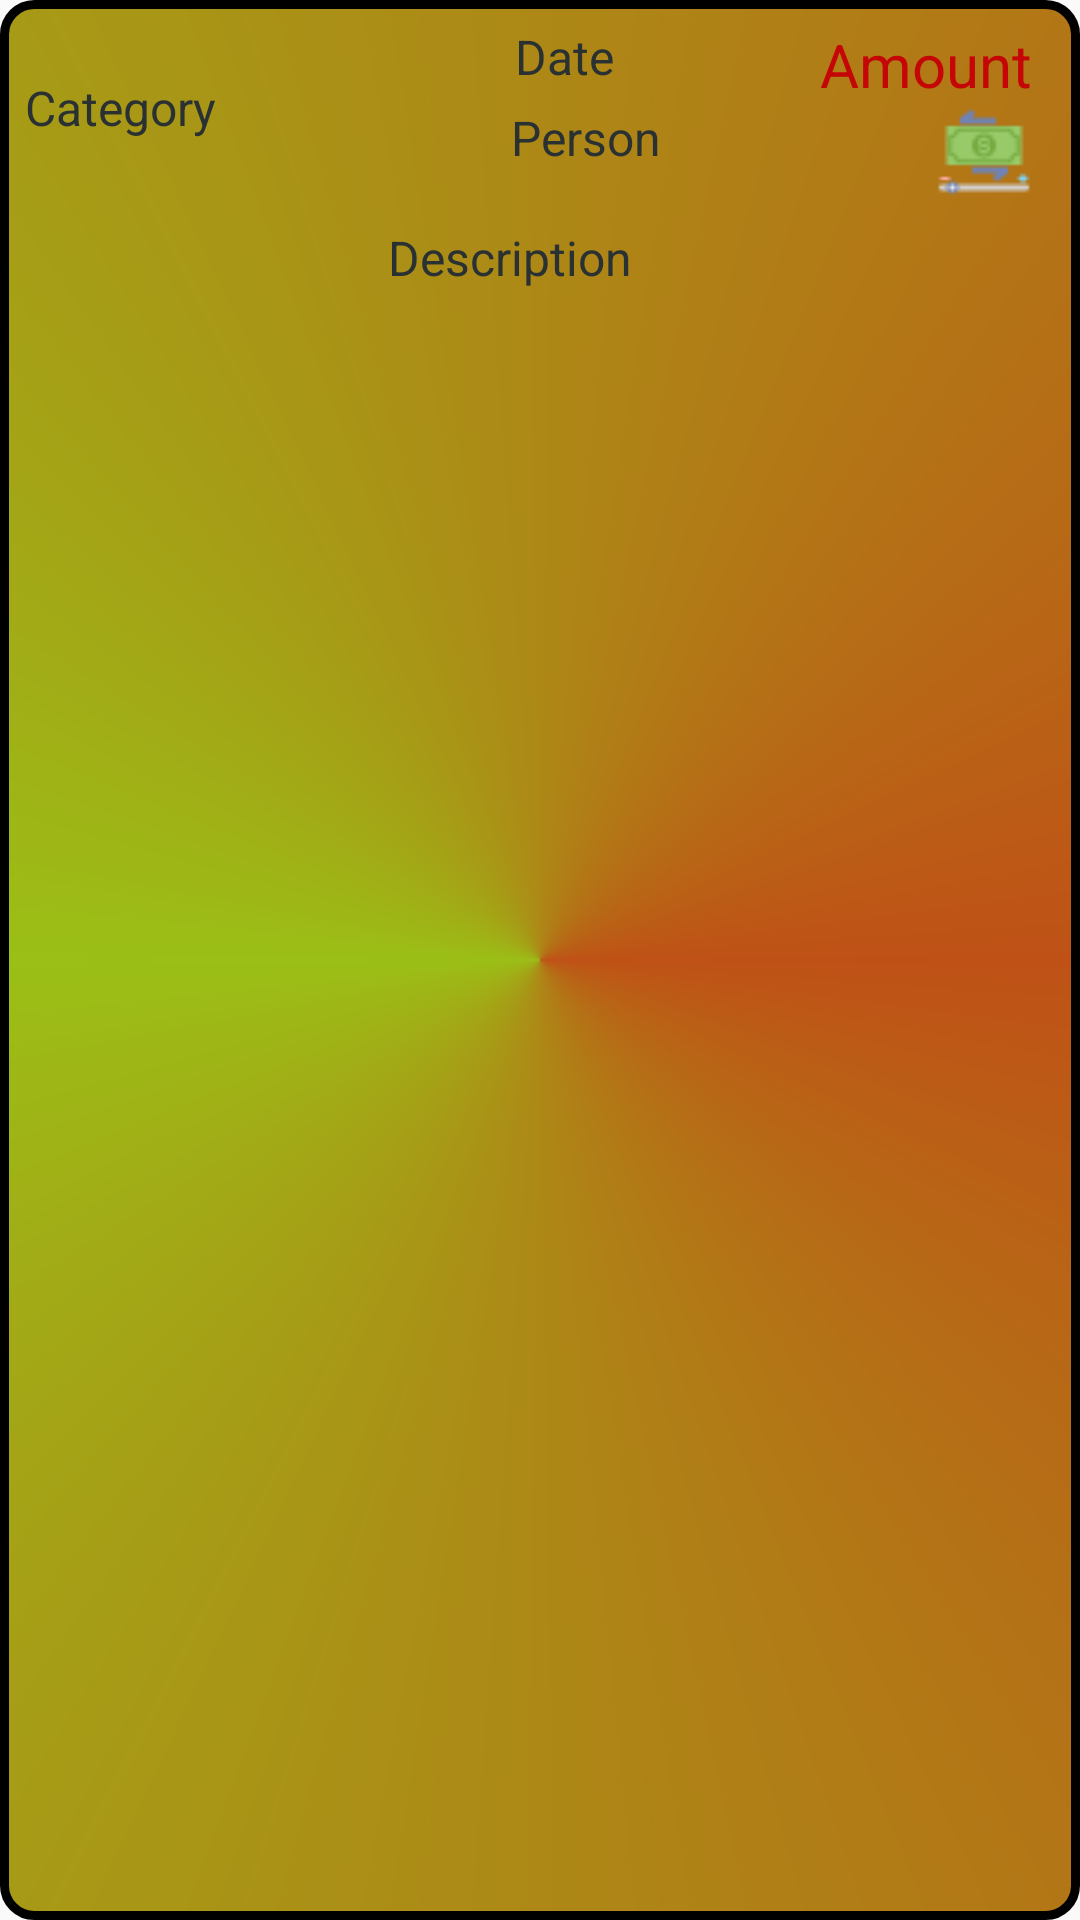

Icons on this 1080 x 1920 Android screen, each with its box as [left=x1, top=y1, right=x2, bottom=y2]:
money: [left=938, top=109, right=1030, bottom=195]
